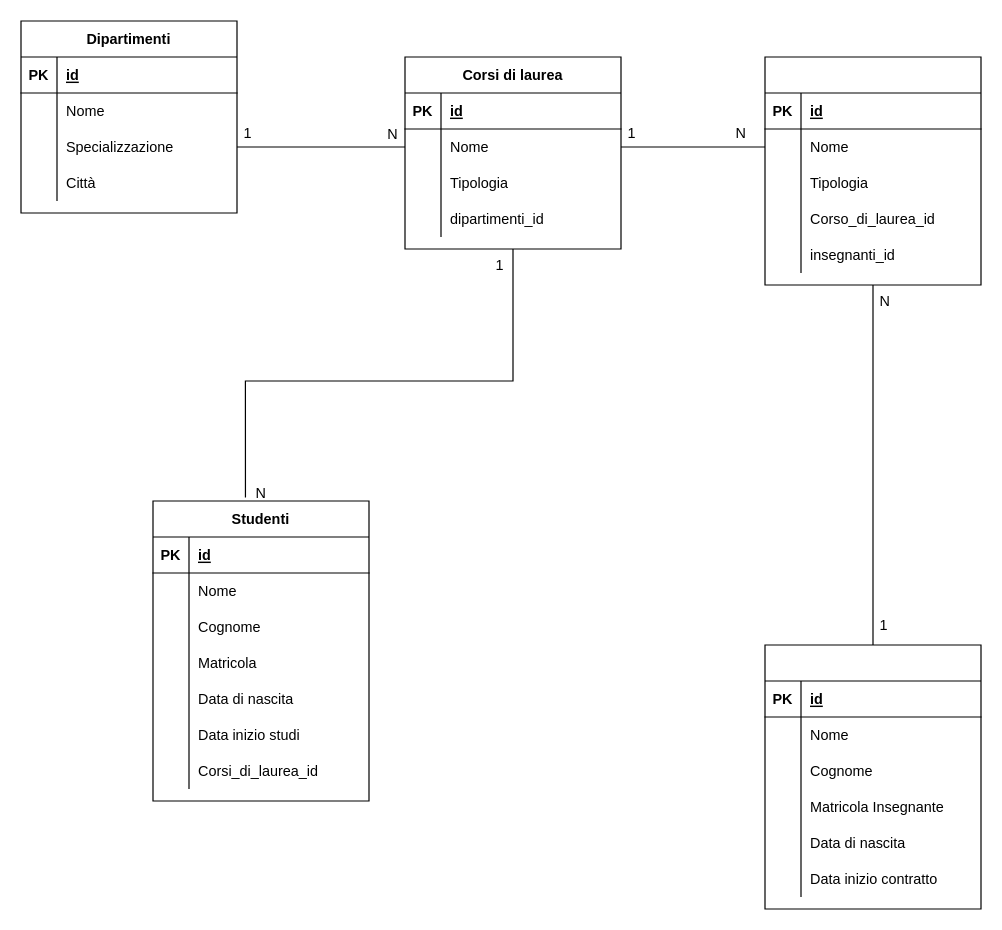
Image size: 1002x930. Some labels were removed from this diagram. Here are the shapes that lost their labels. From the top down, the box of each, then its label:
(764, 56, 981, 285): Corsi
(764, 644, 981, 909): Insegnanti
